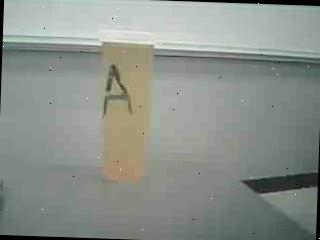Bottle A: (83, 17, 168, 202)
